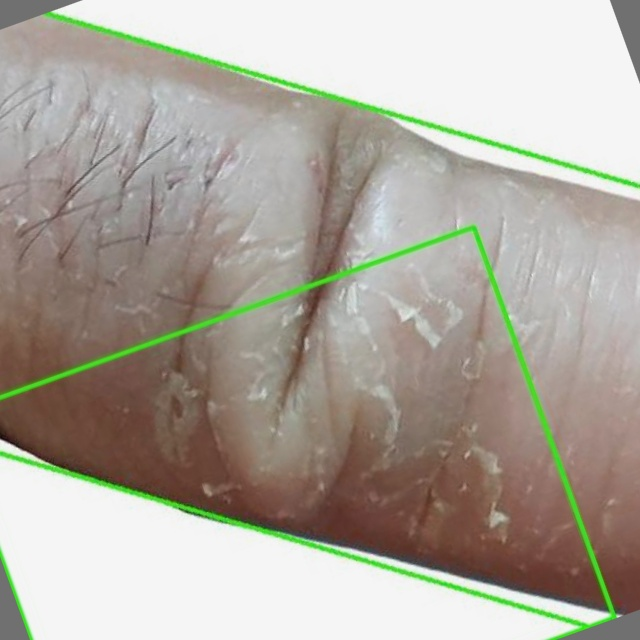Eczema: (0, 92, 639, 549), (0, 226, 614, 639)
